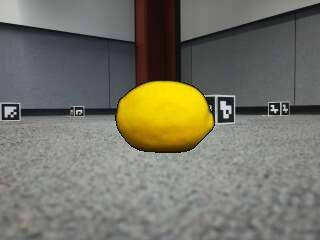lemon: (117, 81, 213, 152)
